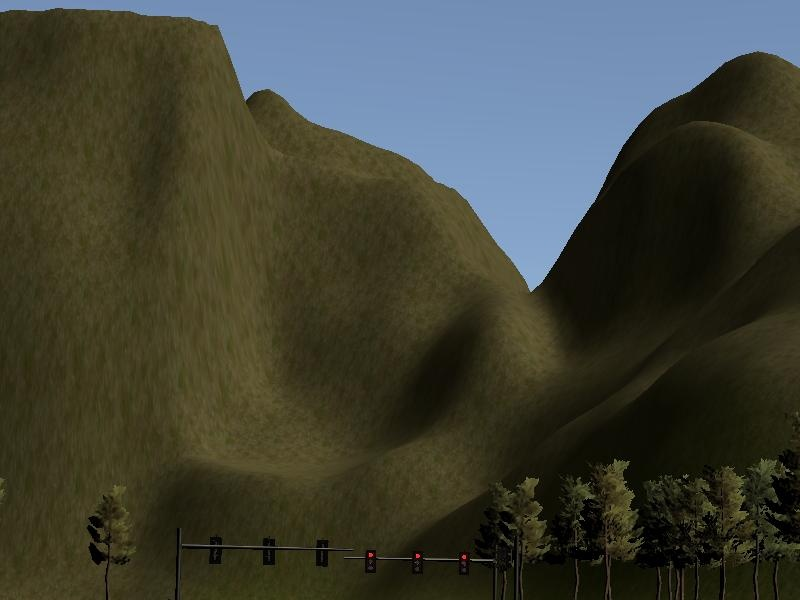red: (409, 549, 426, 579), (364, 548, 378, 576), (457, 549, 471, 576)
